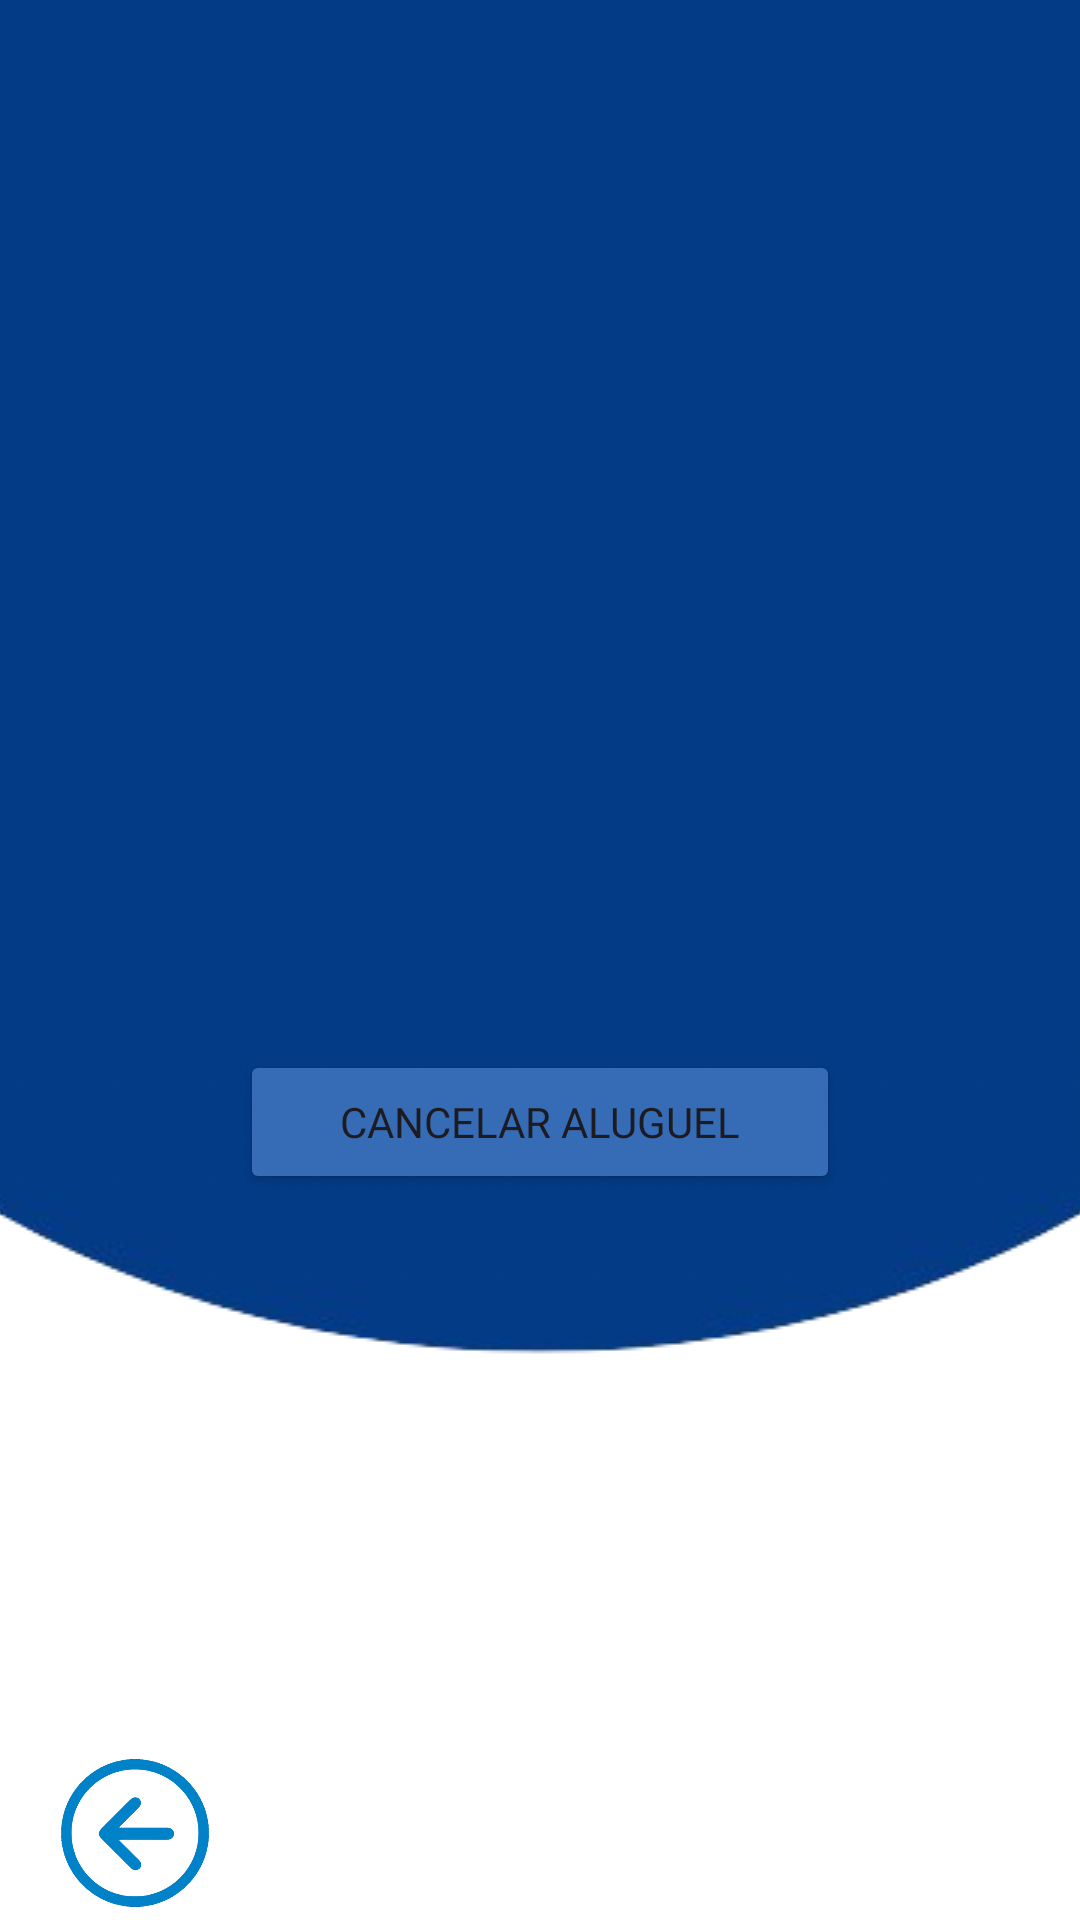

Icons on this 1080 x 1920 Android screen, each with the point to tap as (x=x, y=y):
seta voltar: (x=135, y=1833)
